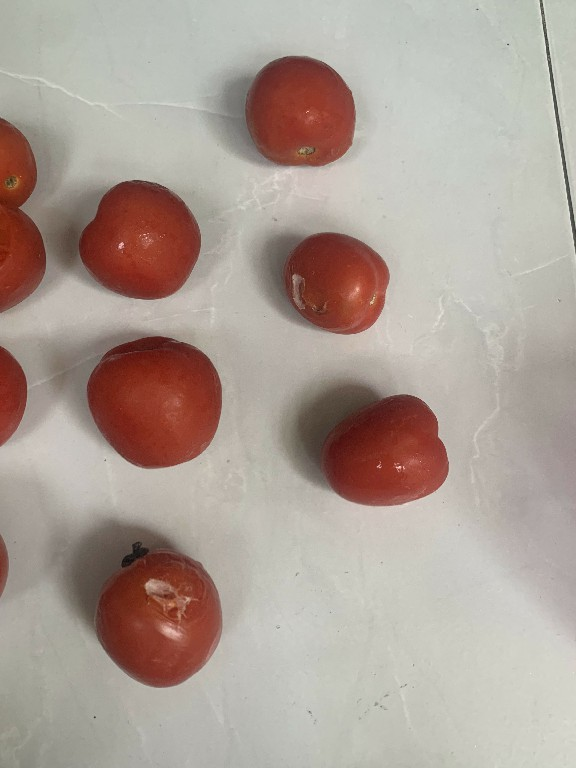NG: (84, 536, 226, 692), (278, 226, 397, 340)
OK: (83, 331, 232, 478), (70, 175, 204, 312), (315, 390, 451, 513), (239, 49, 361, 172)
